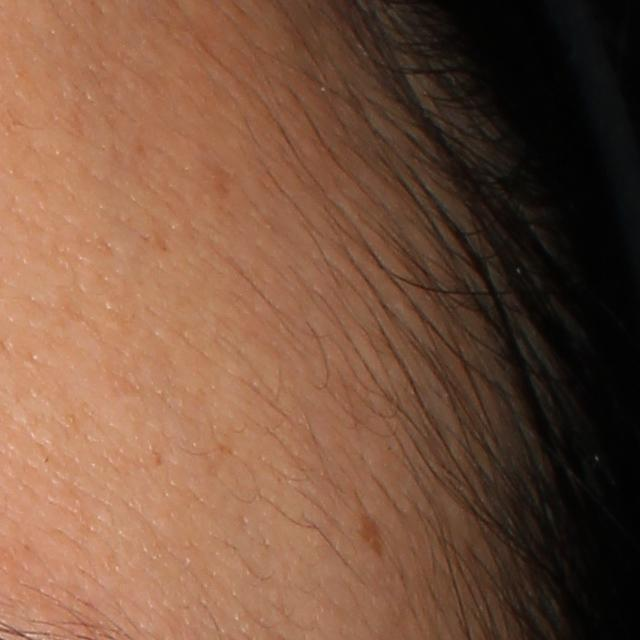melasma: (356, 496, 387, 567)
